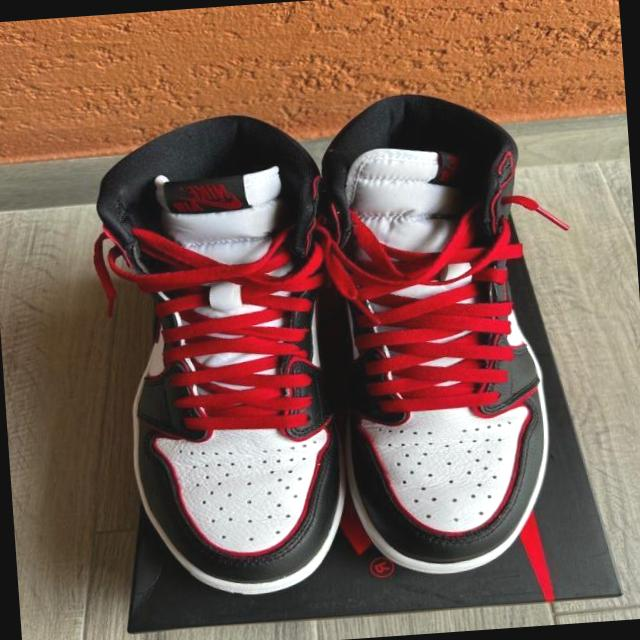nike_original_jordan: (88, 109, 358, 606), (303, 80, 567, 582)
